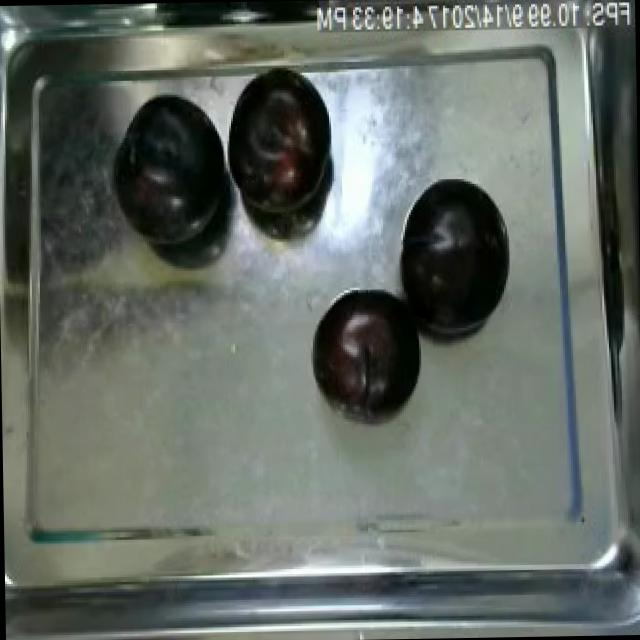Fruit: (108, 84, 239, 256), (388, 165, 516, 341), (225, 72, 338, 222), (304, 283, 429, 417)
